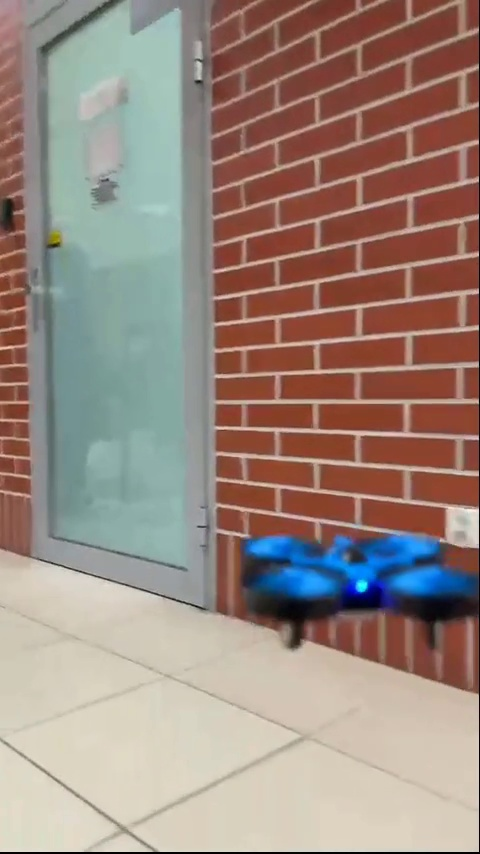drone: (236, 533, 478, 661)
